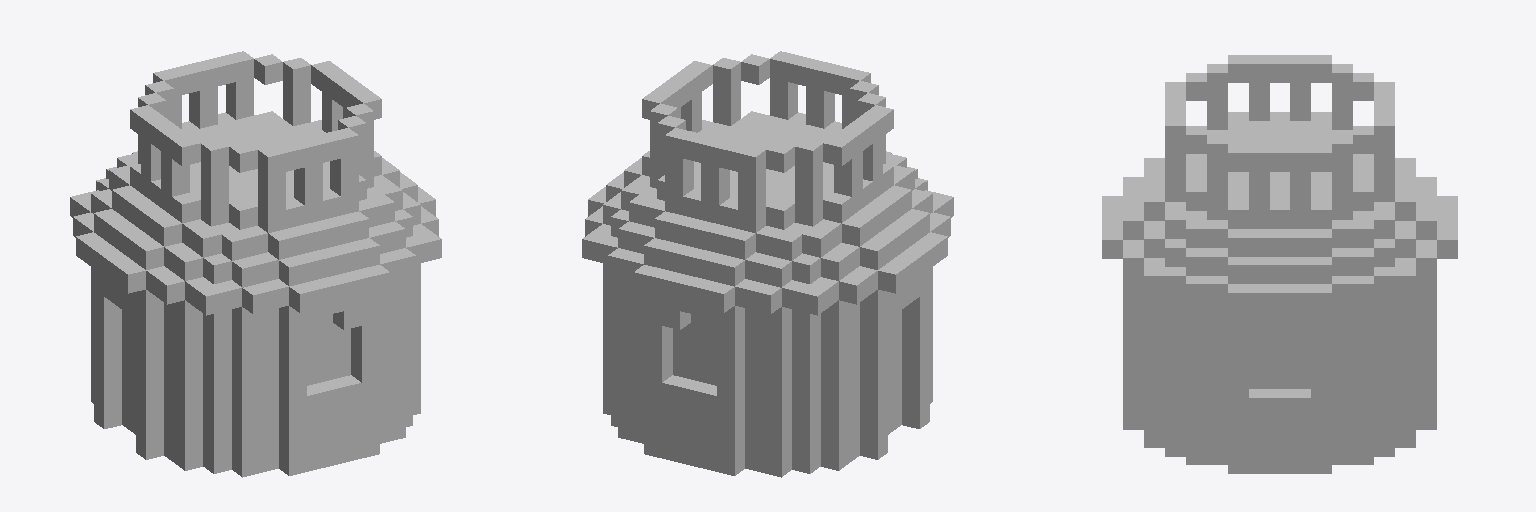
File: Safari_tower1.obj
3 views of the same model, side by side, from view 1: azimuth 30°, elevation 25°; view 2: azimuth 150°, elevation 25°; view 3: azimuth 270°, elevation 25° (orthographic).
Bounding box in the file's own units: 17 × 16 × 17.